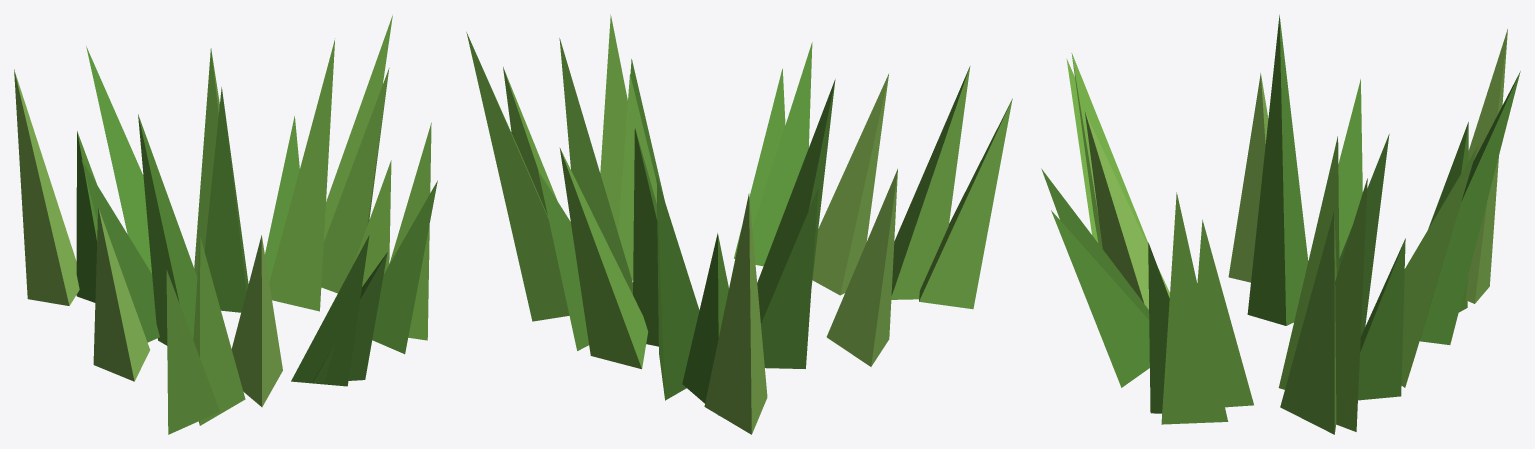
File: grass_large.glb
The picture shows the model from 3 angles, left to right: view 1: azimuth 30°, elevation 25°; view 2: azimuth 150°, elevation 25°; view 3: azimuth 270°, elevation 25°; orthographic projection. The views are drawn at different scales.
Parts seen in each view (by area): view 1: grass_large; view 2: grass_large; view 3: grass_large.
Boxes of the visible parts, bbox=[...] form: grass_large: bbox=[14, 15, 437, 434]; grass_large: bbox=[466, 14, 1012, 434]; grass_large: bbox=[1041, 15, 1520, 434].
Bounding box in the file's own units: 0.3643 × 0.2484 × 0.372.
Materials: 1 (1 with a texture image).
